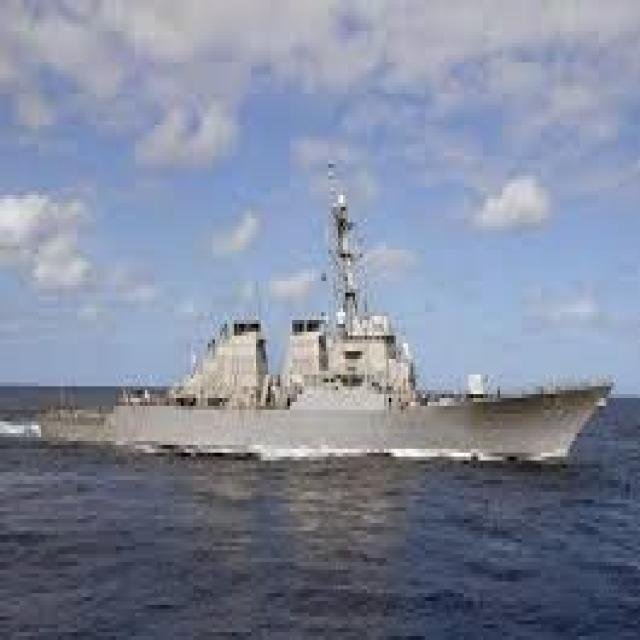navalvessels: (41, 146, 615, 482)
